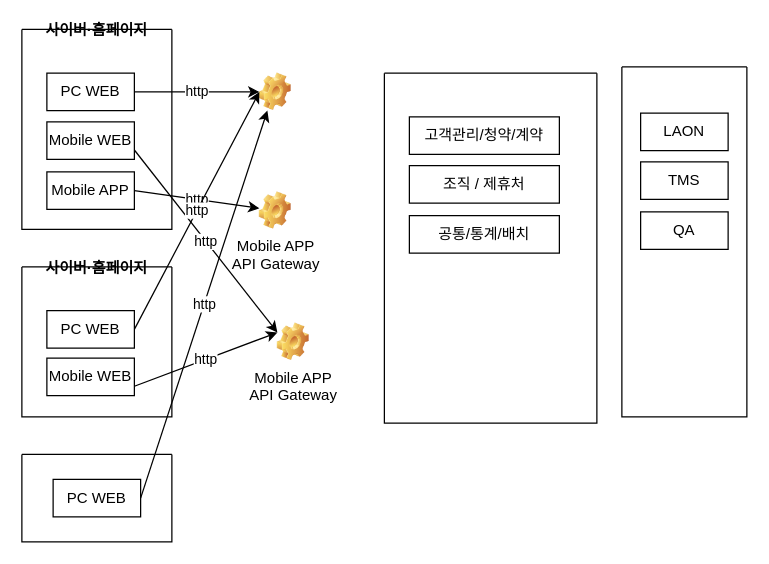
Some shapes in this 769 by 564 pixel diagram are drawn without their labels. Each missing label, with the box of its shape:
PC WEB API Gateway: (259, 72, 291, 110)
관리자: (21, 453, 172, 542)
디지털채널 시스템: (383, 72, 597, 423)
레거시: (621, 66, 747, 417)
